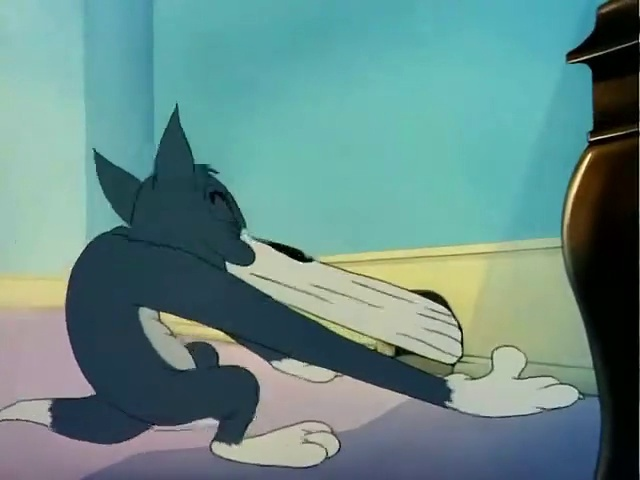tom: (6, 90, 582, 459)
